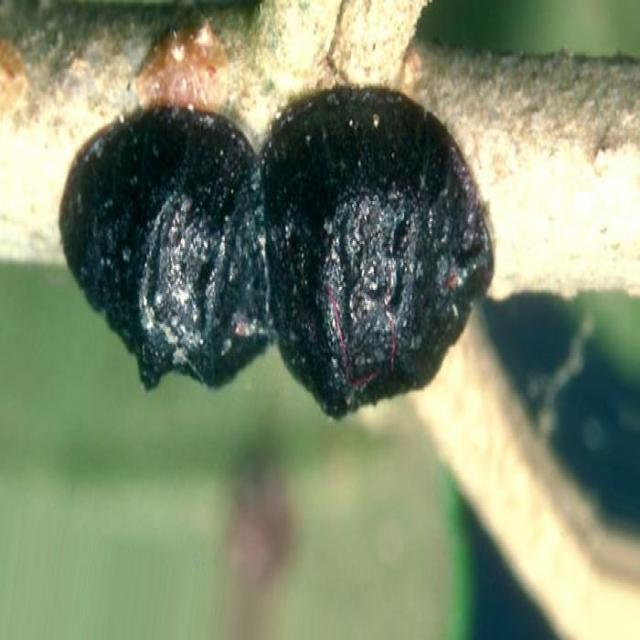Black Scale: (60, 86, 493, 416)
